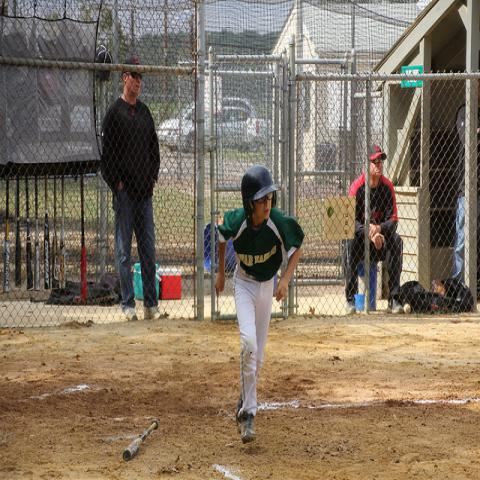car: (186, 106, 262, 152)
